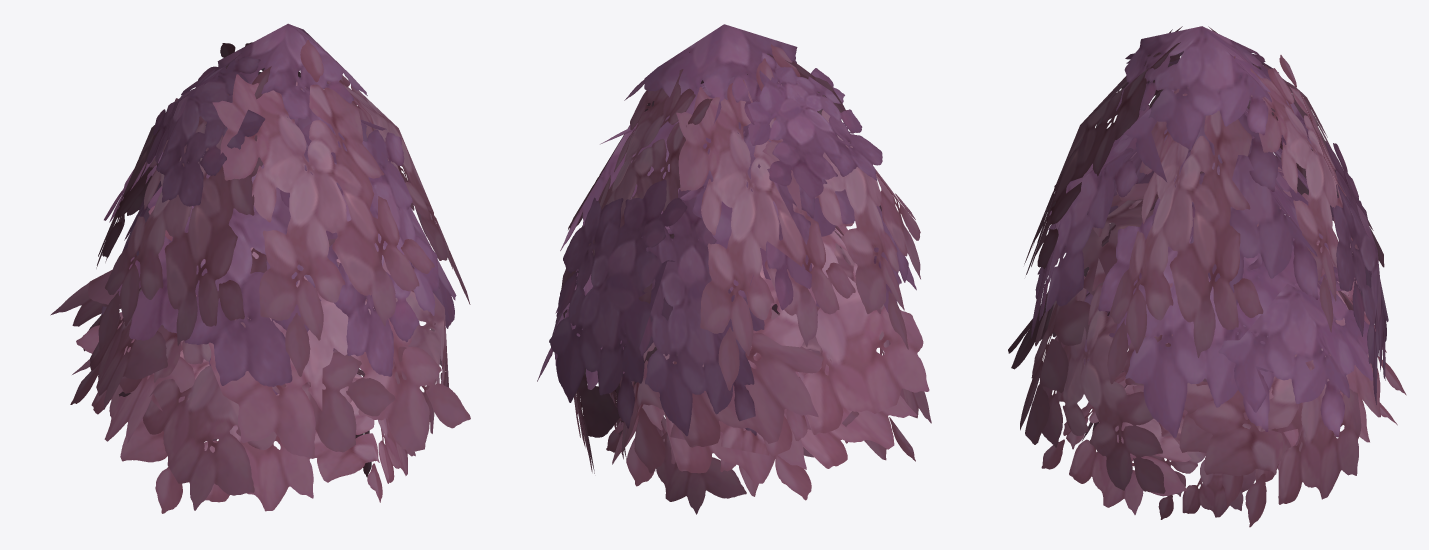
File: Tyj_cdM_016.fbx
3 views of the same model, side by side, from view 1: azimuth 30°, elevation 25°; view 2: azimuth 150°, elevation 25°; view 3: azimuth 270°, elevation 25° (orthographic). The views are drawn at different scales.
Visible parts, largest first — view 1: Tyj_cdM_016; view 2: Tyj_cdM_016; view 3: Tyj_cdM_016.
Part boxes in pixels (x1,y1,x2,y2): Tyj_cdM_016: [50, 23, 470, 513]; Tyj_cdM_016: [537, 24, 931, 514]; Tyj_cdM_016: [1008, 26, 1406, 527].
Bounding box in the file's own units: 442 × 519 × 421.
